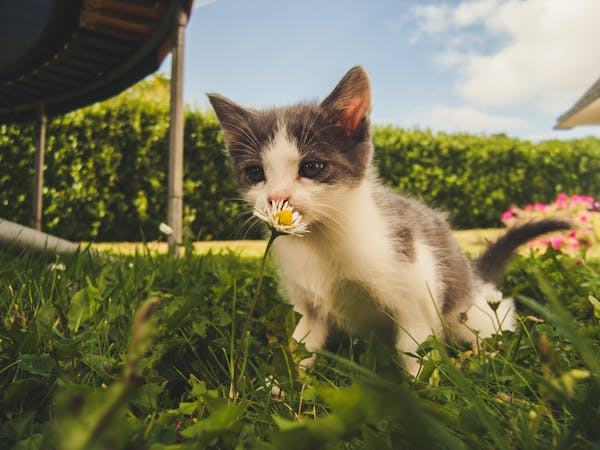Cat: (206, 65, 568, 392)
